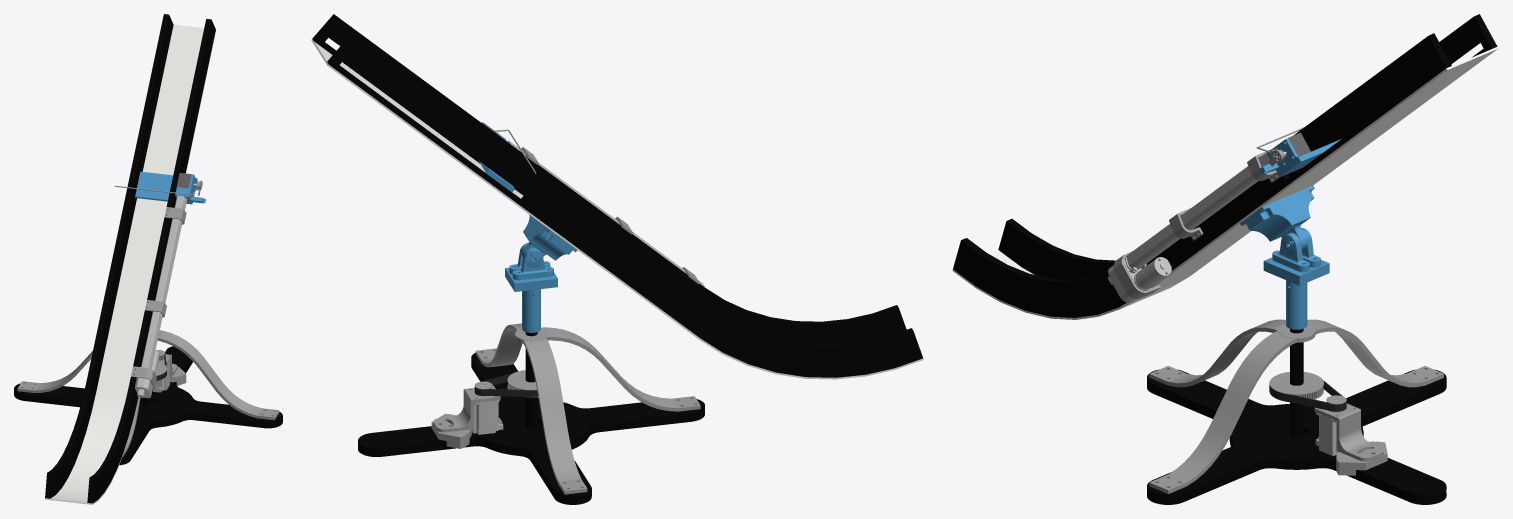
File: Simplified Ramp Model v9.fbx
3 views of the same model, side by side, from view 1: azimuth 30°, elevation 25°; view 2: azimuth 150°, elevation 25°; view 3: azimuth 270°, elevation 25° (orthographic). The views are drawn at different scales.
Visible parts, largest first — view 1: Ramp Back, Rail:1, Rail:2, Base, Support Arms, Case, Plate, Motor Tension Assembly, Base Bracket; view 2: Rail:1, Rail:2, Base, Support Arms, Ramp Back, Shaft Adapter, Motor Tension Assembly, Ramp Adapter, Rotation Motor Body, Main Shaft; view 3: Rail:2, Base, Support Arms, Ramp Back, Rail:1, Case, Shaft Adapter, Motor Tension Assembly, Ramp Adapter, Main Shaft, Plate, 60 tooth Gear (+3 smaller).
Part boxes in pixels (box(x1,y1,x2,y2)): Ramp Back: box(45, 25, 216, 504); Rail:1: box(45, 14, 173, 498); Rail:2: box(87, 19, 215, 503); Base: box(14, 346, 282, 465); Support Arms: box(17, 330, 279, 457); Case: box(135, 195, 186, 398); Plate: box(135, 171, 205, 204); Motor Tension Assembly: box(158, 354, 186, 385); Base Bracket: box(131, 366, 156, 389); Rail:1: box(327, 37, 922, 377); Rail:2: box(312, 14, 906, 344); Base: box(358, 353, 704, 504); Support Arms: box(475, 323, 700, 494); Ramp Back: box(311, 39, 923, 379); Shaft Adapter: box(505, 242, 557, 332); Motor Tension Assembly: box(431, 385, 500, 448); Ramp Adapter: box(521, 215, 577, 260); Rotation Motor Body: box(472, 400, 503, 434); Main Shaft: box(525, 295, 537, 427); Rail:2: box(953, 33, 1451, 317); Base: box(1147, 369, 1446, 504); Support Arms: box(1149, 319, 1443, 493); Ramp Back: box(952, 47, 1498, 319); Rail:1: box(998, 14, 1497, 279); Case: box(1108, 148, 1272, 302); Shaft Adapter: box(1263, 228, 1329, 329); Motor Tension Assembly: box(1314, 403, 1387, 475); Ramp Adapter: box(1240, 185, 1314, 250); Main Shaft: box(1290, 328, 1303, 437); Plate: box(1260, 138, 1341, 176); 60 tooth Gear: box(1269, 372, 1323, 402).
Bounding box in the file's own units: 1020 × 996 × 1020.
